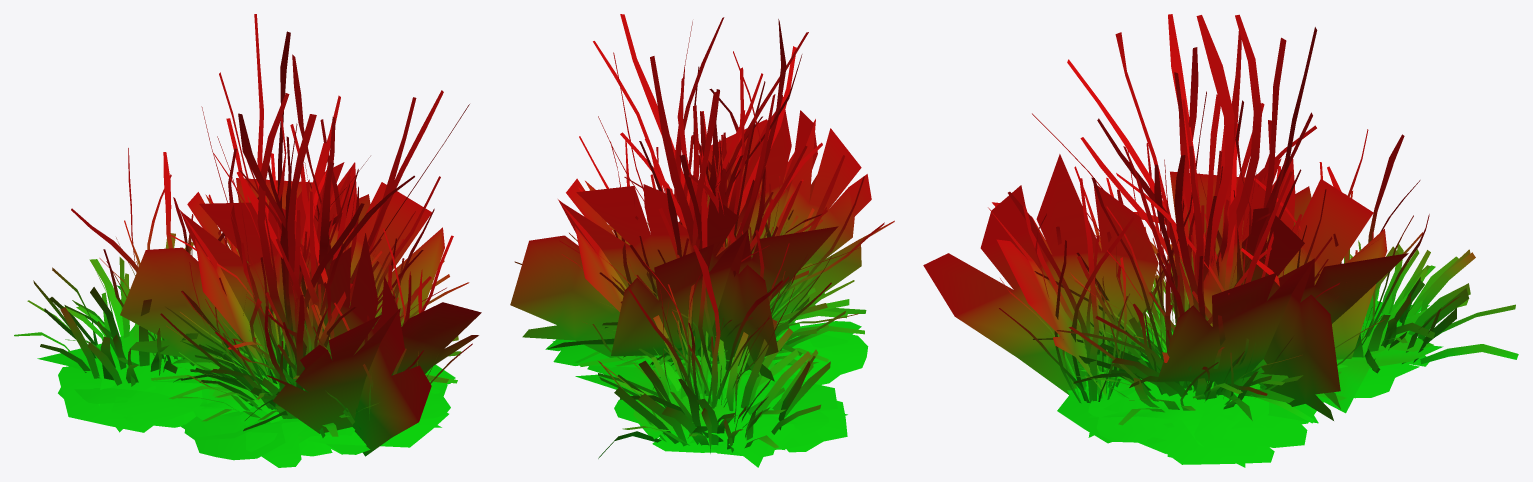
Rendered from Wild Grass_LOD2_Var3_vdilbaiia.fbx.
3 views of the same model, side by side, from view 1: azimuth 30°, elevation 25°; view 2: azimuth 150°, elevation 25°; view 3: azimuth 270°, elevation 25° (orthographic). The views are drawn at different scales.
Parts seen in each view (by area): view 1: _xxk2_Var3_LOD2; view 2: _xxk2_Var3_LOD2; view 3: _xxk2_Var3_LOD2.
Part boxes in pixels (x1=…): _xxk2_Var3_LOD2: x1=14, y1=14, x2=481, y2=467; _xxk2_Var3_LOD2: x1=510, y1=14, x2=894, y2=467; _xxk2_Var3_LOD2: x1=923, y1=14, x2=1518, y2=467.
Bounding box in the file's own units: 72.55 × 71.24 × 99.29.
